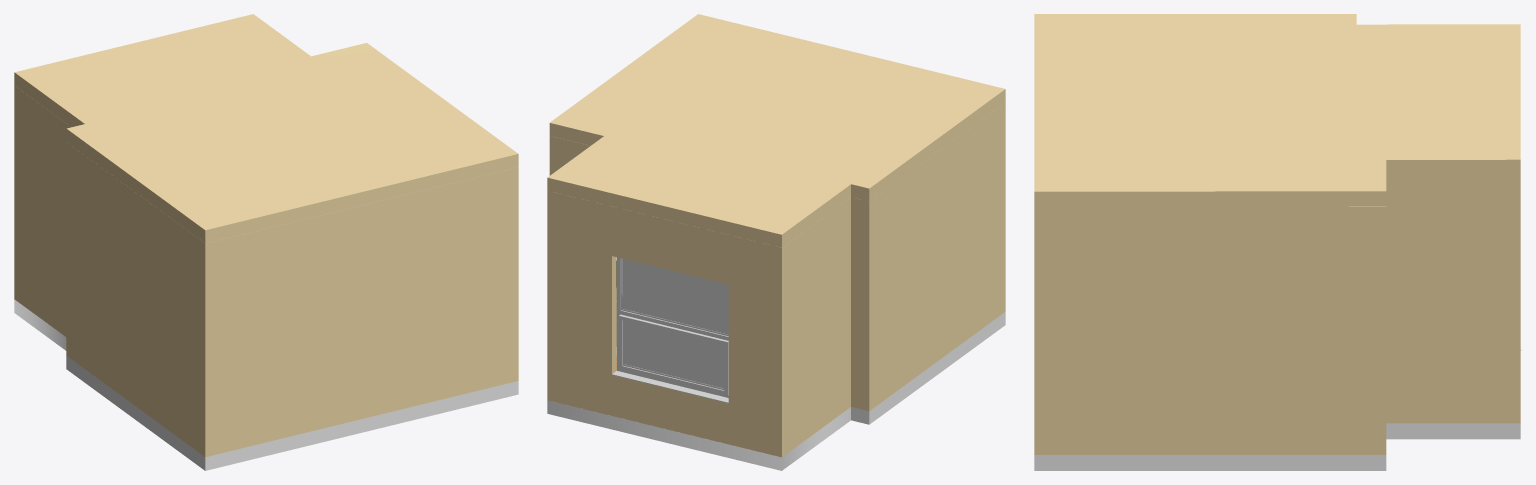
File: FloorPlan15_physics.fbx
3 renders of one model, left to right at view 1: azimuth 30°, elevation 25°; view 2: azimuth 150°, elevation 25°; view 3: azimuth 270°, elevation 25°, orthographic. The views are drawn at different scales.
Parts seen in each view (by area): view 1: Room.040, Ceiling, Cube.544; view 2: Room.040, Ceiling, WindowPane, Cube.544, Window.001; view 3: Room.040, Ceiling, Cube.544.
Boxes of the visible parts, box(x1,y1,x2,y2) form: Room.040: box(14, 86, 518, 457); Ceiling: box(14, 14, 518, 243); Cube.544: box(14, 299, 518, 470); Room.040: box(547, 102, 1005, 457); Ceiling: box(547, 14, 1005, 247); WindowPane: box(622, 259, 728, 388); Cube.544: box(547, 312, 1005, 470); Window.001: box(612, 257, 728, 403); Room.040: box(1034, 175, 1520, 454); Ceiling: box(1034, 14, 1520, 206); Cube.544: box(1034, 423, 1520, 470).
Bounding box in the file's own units: 422 × 310 × 490.
